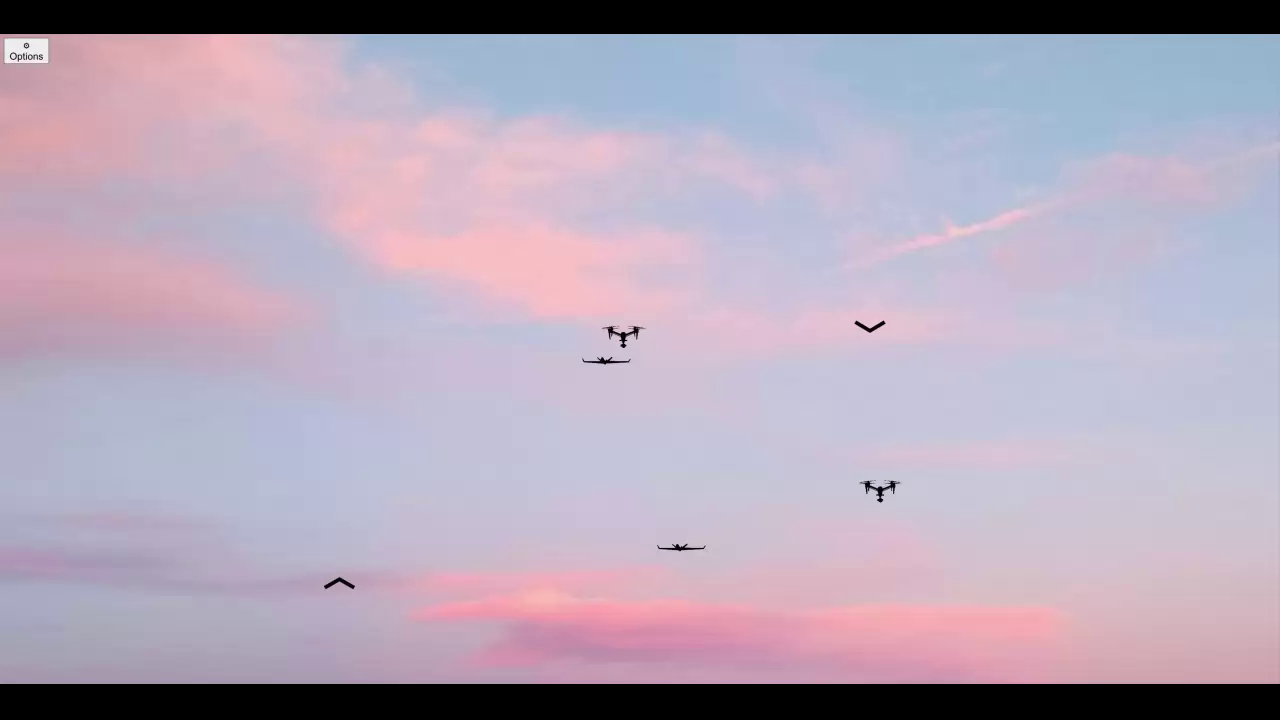Bird: (834, 310, 899, 347), (309, 559, 370, 597)
Drone: (644, 527, 721, 562), (569, 344, 642, 377)
Quadcopter: (845, 469, 909, 510), (595, 313, 656, 352)
